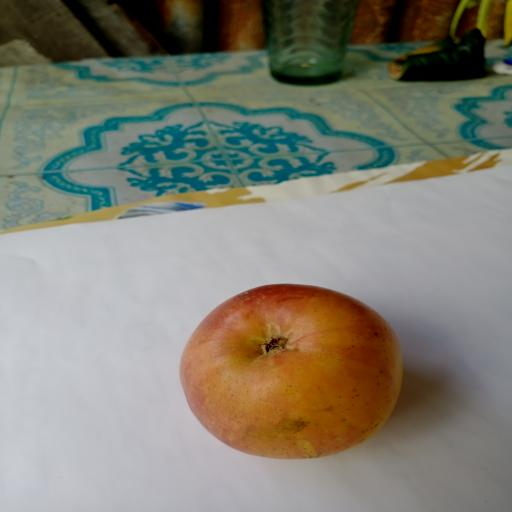apple-ripe: (164, 280, 418, 463)
